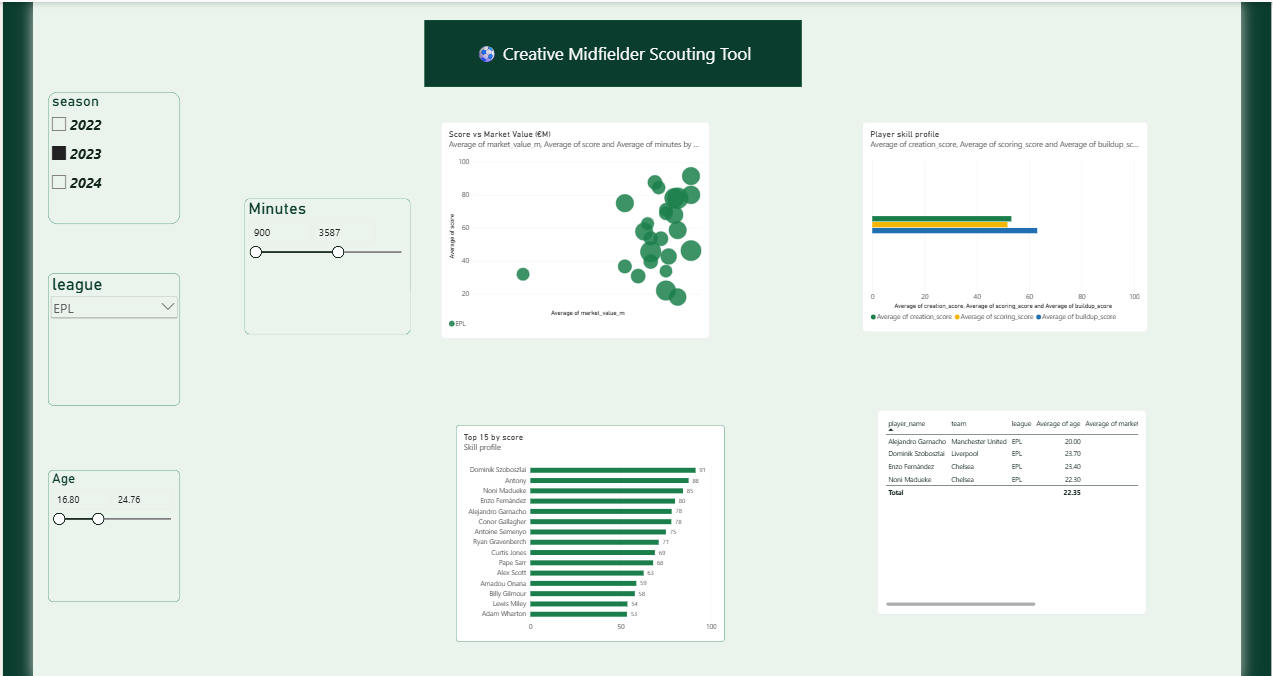

This screenshot's page, from the dashboard's own definition file:
{"tool":"powerbi","page":{"name":"Page 1","canvas":[1920,1080],"ordinal":0},"visuals":[{"type":"slicer","fields":{"Values":["dashboard_data.season"]},"box":[10,0,280,280],"z":0},{"type":"slicer","fields":{"Values":["dashboard_data.league"]},"box":[10,290,280,280],"z":1},{"type":"slicer","fields":{"Values":["dashboard_data.age"]},"box":[0,576,280,280],"z":2},{"type":"slicer","fields":{"Values":["dashboard_data.minutes"]},"box":[10,870,280,210],"z":3},{"type":"scatterChart","title":"Score vs Market Value (€M)","fields":{"Category":["dashboard_data.player_name","dashboard_data.season"],"Series":["dashboard_data.league"],"Size":["Avg(dashboard_data.minutes)"],"X":["Avg(dashboard_data.market_value_m)"],"Y":["Avg(dashboard_data.score)"]},"box":[389.8,139.6,570.2,459.6],"z":4},{"type":"barChart","title":"Top 15 by score","fields":{"Category":["dashboard_data.player_name"],"Y":["Avg(dashboard_data.score)"]},"box":[1076.4,139.6,570,460],"z":5},{"type":"clusteredBarChart","title":"Player skill profile","fields":{"Y":["Avg(dashboard_data.creation_score)","Avg(dashboard_data.scoring_score)","Avg(dashboard_data.buildup_score)"]},"box":[354.9,634.2,605.1,445.1],"z":6},{"type":"tableEx","fields":{"Values":["dashboard_data.player_name","dashboard_data.team","dashboard_data.league","Sum(dashboard_data.age)","Sum(dashboard_data.market_value_m)","Sum(dashboard_data.score)","Sum(dashboard_data.score_per_million)"]},"box":[1096.7,640,570.2,433.5],"z":7}]}

Visuals, with their boxes on the page's 1920x1080 design canvas (x1, y1, x2, y2). These are canvas units, not pixel positions in the 1273x676 screenshot, which may show the page scaled, cropped or inside an application window:
slicer - dashboard_data.season: BBox(10, 0, 290, 280)
slicer - dashboard_data.league: BBox(10, 290, 290, 570)
slicer - dashboard_data.age: BBox(0, 576, 280, 856)
slicer - dashboard_data.minutes: BBox(10, 870, 290, 1080)
"Score vs Market Value (€M)" scatterChart: BBox(390, 140, 960, 599)
"Top 15 by score" barChart: BBox(1076, 140, 1646, 600)
"Player skill profile" clusteredBarChart: BBox(355, 634, 960, 1079)
tableEx - dashboard_data.player_name x dashboard_data.team: BBox(1097, 640, 1667, 1074)
